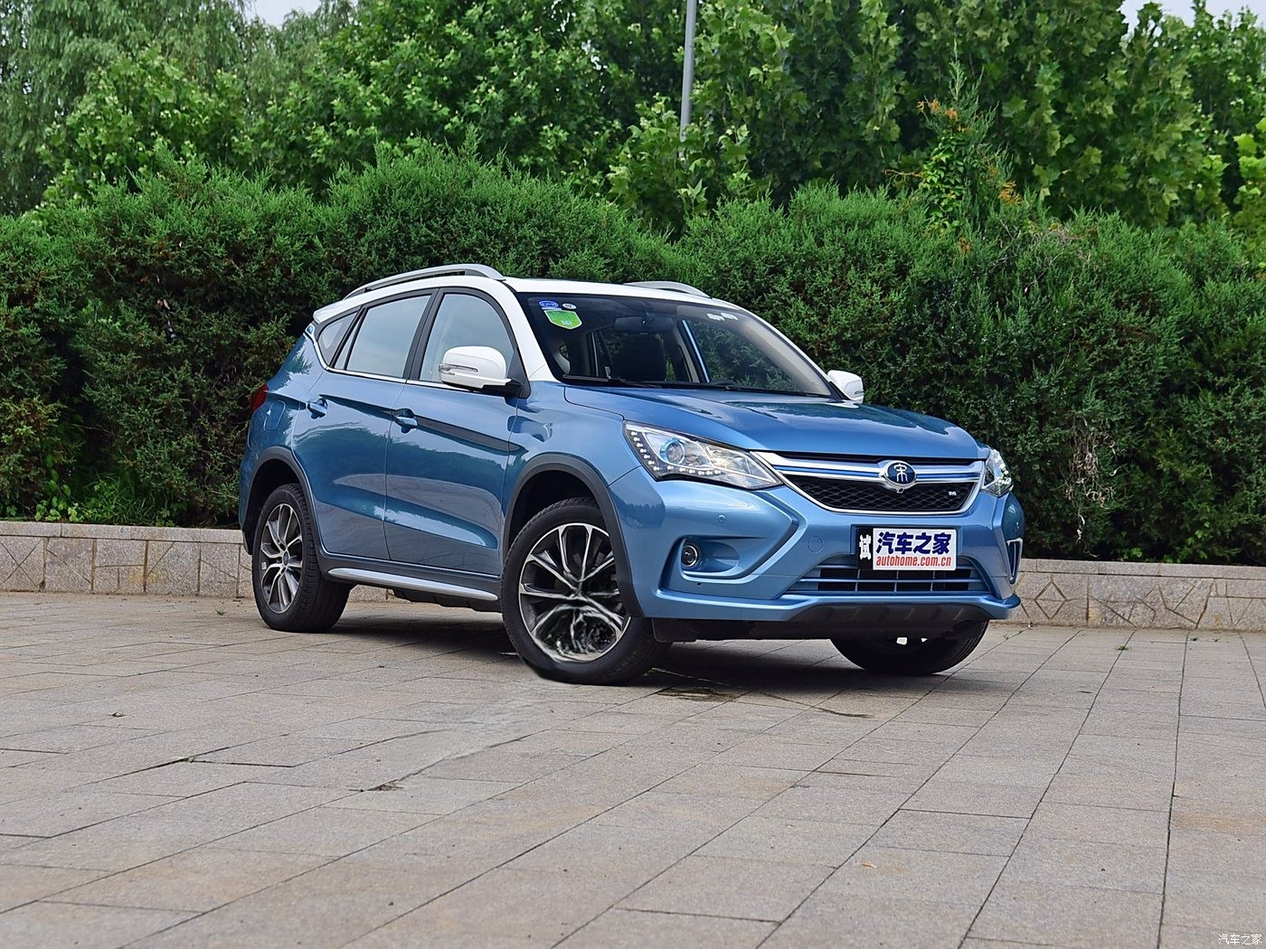BYD Song: (888, 463, 914, 484)
